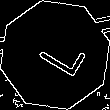L_NW: (25, 29, 85, 81)
